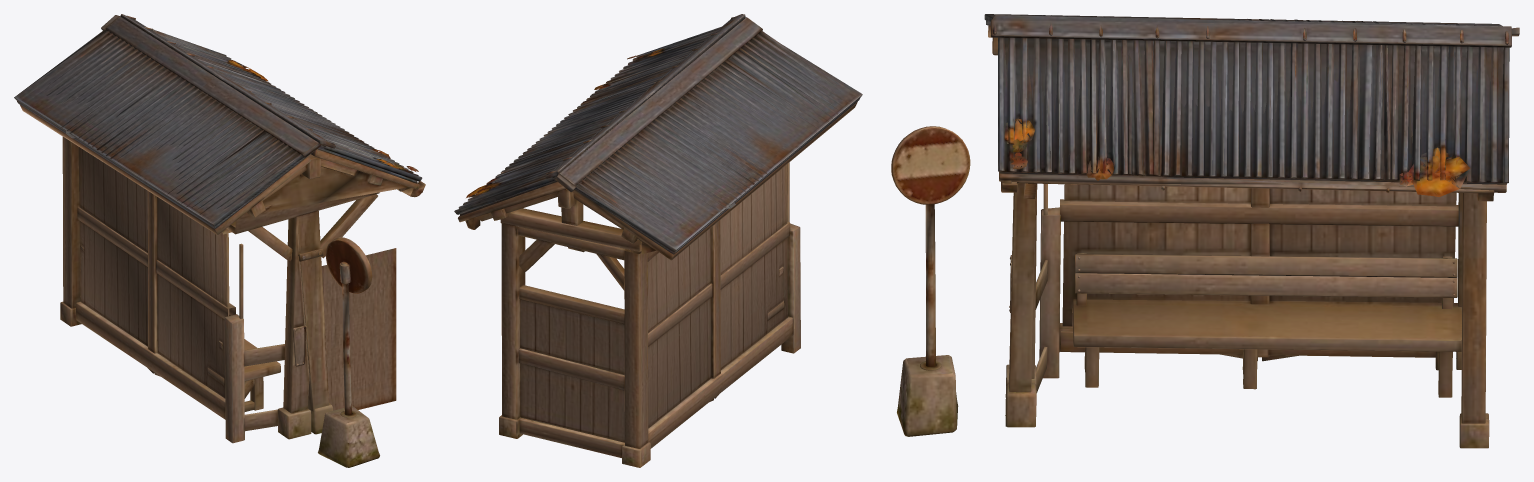
File: bus_stop.glb
The picture shows the model from 3 angles, left to right: view 1: azimuth 30°, elevation 25°; view 2: azimuth 150°, elevation 25°; view 3: azimuth 270°, elevation 25°; orthographic projection. The views are drawn at different scales.
Parts seen in each view (by area): view 1: tripo_node_7915f01d-8069-4b33-b727-8b58016306e6; view 2: tripo_node_7915f01d-8069-4b33-b727-8b58016306e6; view 3: tripo_node_7915f01d-8069-4b33-b727-8b58016306e6.
Part boxes in pixels (x1,y1,x2,y2): tripo_node_7915f01d-8069-4b33-b727-8b58016306e6: [14, 14, 425, 467]; tripo_node_7915f01d-8069-4b33-b727-8b58016306e6: [454, 14, 862, 467]; tripo_node_7915f01d-8069-4b33-b727-8b58016306e6: [891, 14, 1519, 448].
Size of the model in its own units: 0.5659 by 0.7104 by 0.9995.
1 material, 1 textured.
